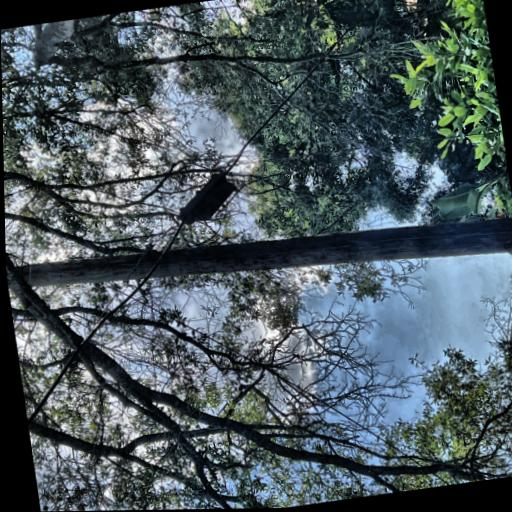pole: (62, 72, 201, 511)
vegetation_encroachment: (79, 8, 179, 195)
